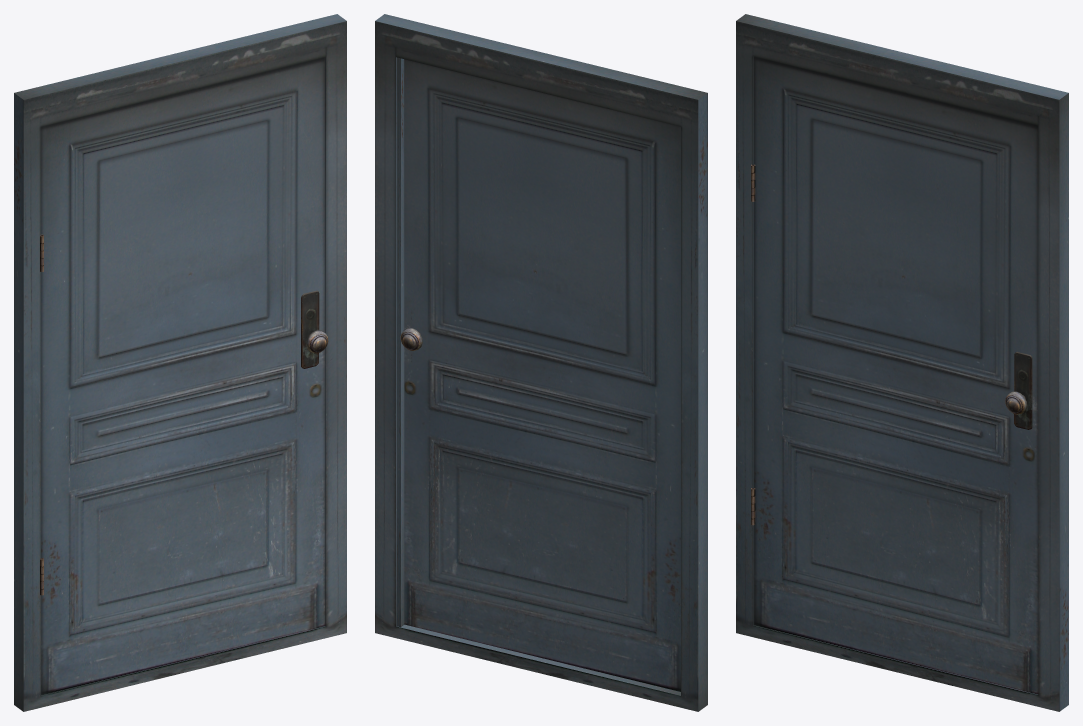
The model's file is Door_01.FBX.
3 renders of one model, left to right at view 1: azimuth 30°, elevation 25°; view 2: azimuth 150°, elevation 25°; view 3: azimuth 330°, elevation 25°, orthographic.
Visible parts, largest first — view 1: Door_01, Door_01_Frame; view 2: Door_01, Door_01_Frame; view 3: Door_01, Door_01_Frame.
Boxes of the visible parts, box(x1,y1,x2,y2) form: Door_01: box(40, 57, 328, 695); Door_01_Frame: box(14, 14, 346, 711); Door_01: box(400, 59, 680, 691); Door_01_Frame: box(375, 14, 707, 711); Door_01: box(751, 56, 1038, 694); Door_01_Frame: box(736, 14, 1068, 711).
Size of the model in its own units: 130 by 18.33 by 236.
